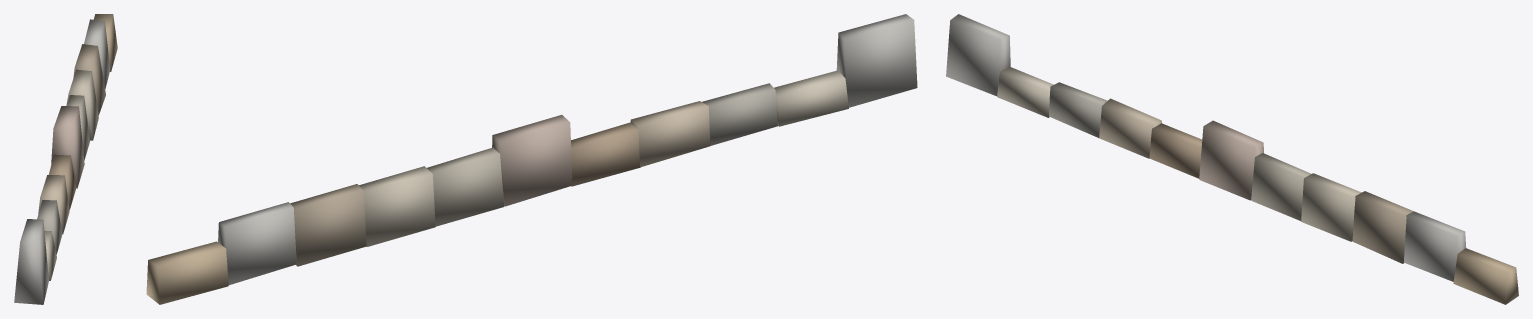
Rendered from farm_-17_-22_far.glb.
3 renders of one model, left to right at view 1: azimuth 30°, elevation 25°; view 2: azimuth 150°, elevation 25°; view 3: azimuth 270°, elevation 25°, orthographic. The views are drawn at different scales.
Parts seen in each view (by area): view 1: geometry_0; view 2: geometry_0; view 3: geometry_0.
Part boxes in pixels (<box>): geometry_0: <box>14,14,117,304</box>; geometry_0: <box>146,14,917,304</box>; geometry_0: <box>946,14,1518,304</box>.
Bounding box in the file's own units: 10.73 × 3.23 × 14.59.
